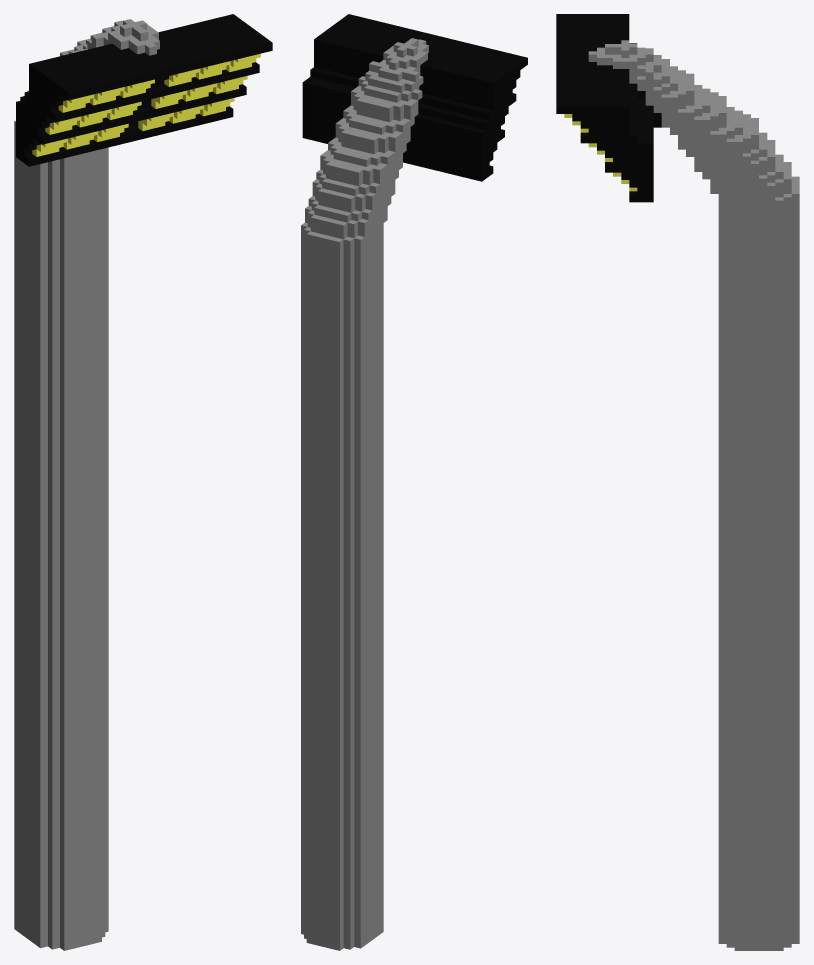
Rendered from prop_flutlicht.obj.
The picture shows the model from 3 angles, left to right: view 1: azimuth 30°, elevation 25°; view 2: azimuth 150°, elevation 25°; view 3: azimuth 270°, elevation 25°; orthographic projection. The views are drawn at different scales.
Size of the model in its own units: 2.7 by 12.1 by 3.
Materials: 1 (1 with a texture image).
